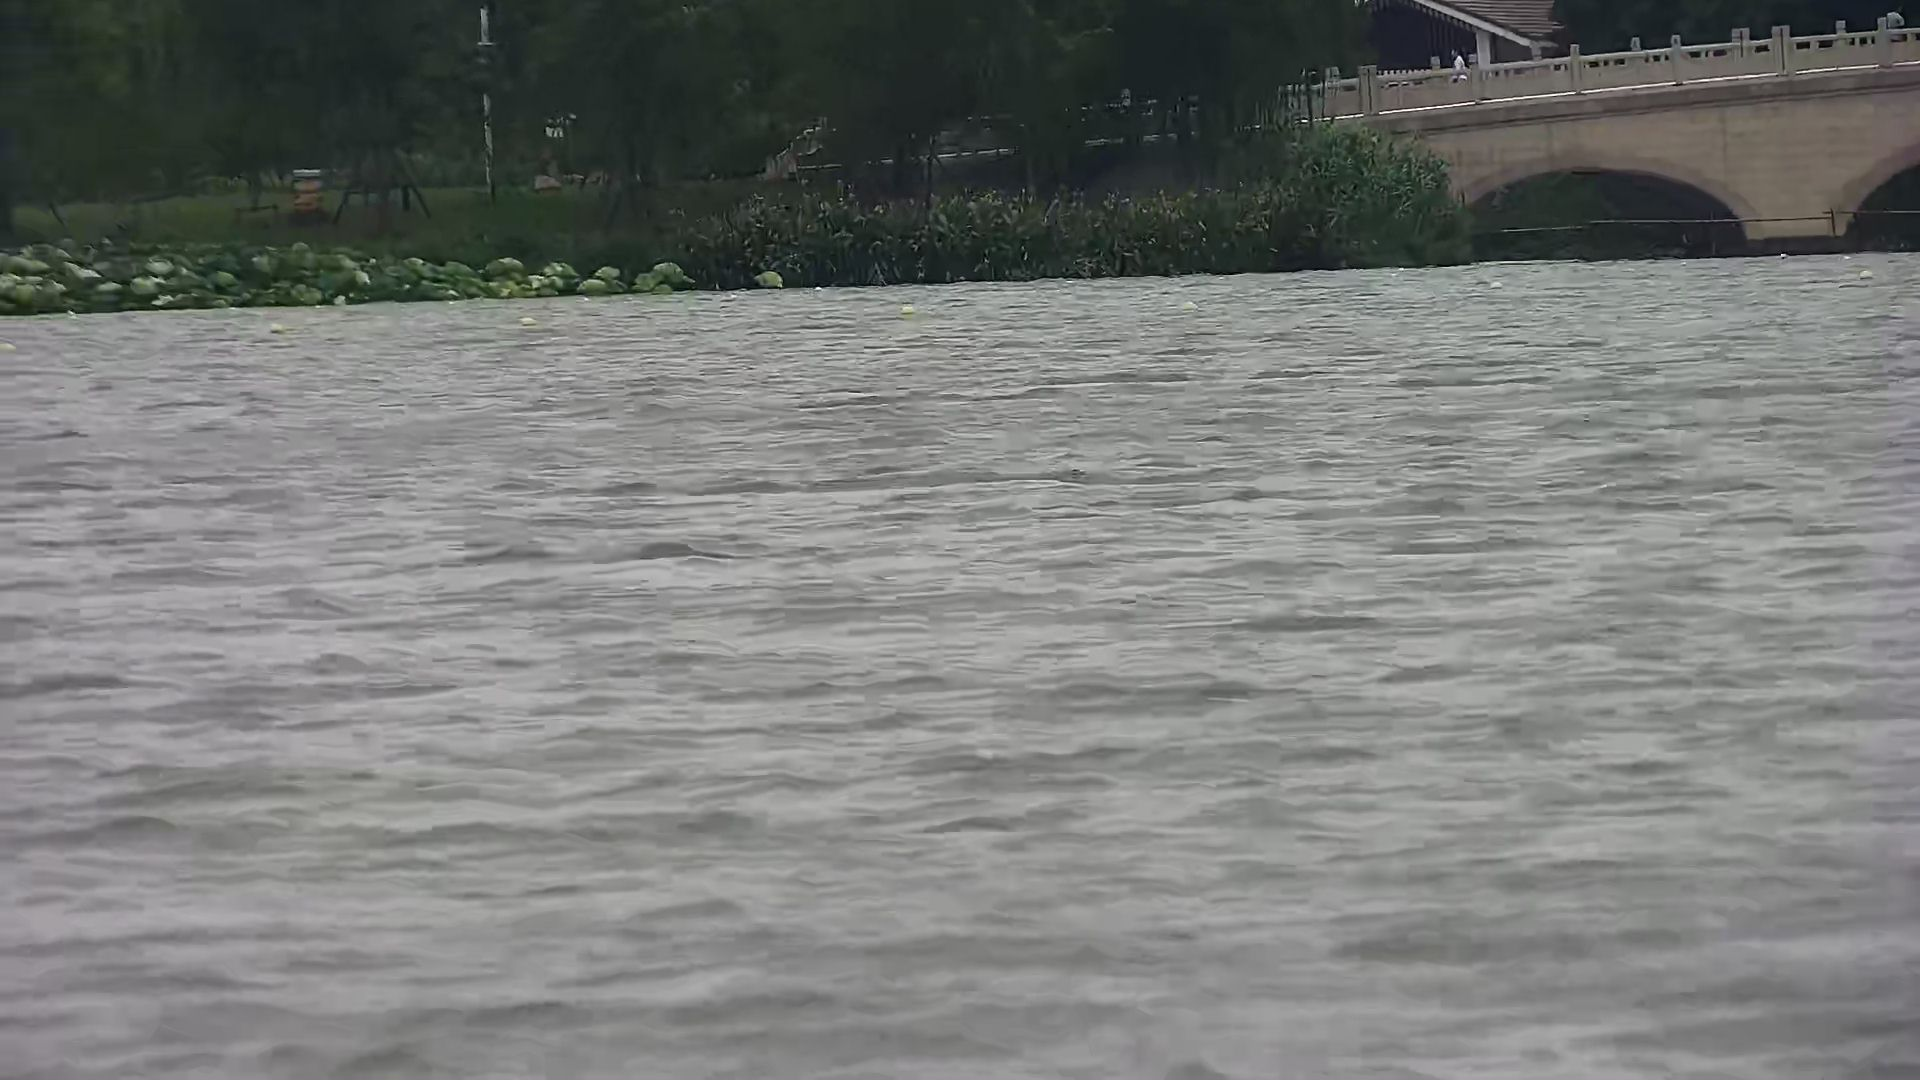bridge: (1327, 17, 1907, 247)
